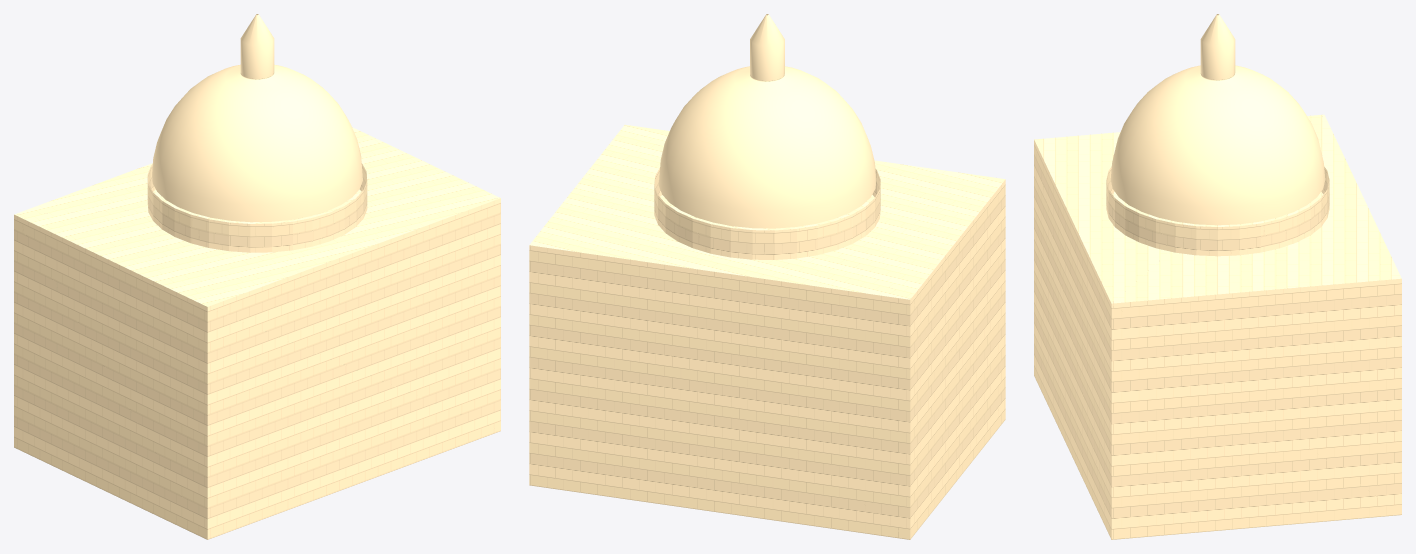
Rendered from landmark-shirvanshah-tomb.glb.
The picture shows the model from 3 angles, left to right: view 1: azimuth 30°, elevation 25°; view 2: azimuth 150°, elevation 25°; view 3: azimuth 270°, elevation 25°; orthographic projection. The views are drawn at different scales.
Visible parts, largest first — view 1: shirvanshah-tomb; view 2: shirvanshah-tomb; view 3: shirvanshah-tomb.
Part boxes in pixels (x1=…): shirvanshah-tomb: x1=14, y1=14, x2=500, y2=539; shirvanshah-tomb: x1=529, y1=14, x2=1005, y2=539; shirvanshah-tomb: x1=1034, y1=14, x2=1401, y2=539.
Bounding box in the file's own units: 15.44 × 16.41 × 12.69.
Materials: 2 (1 with a texture image).
